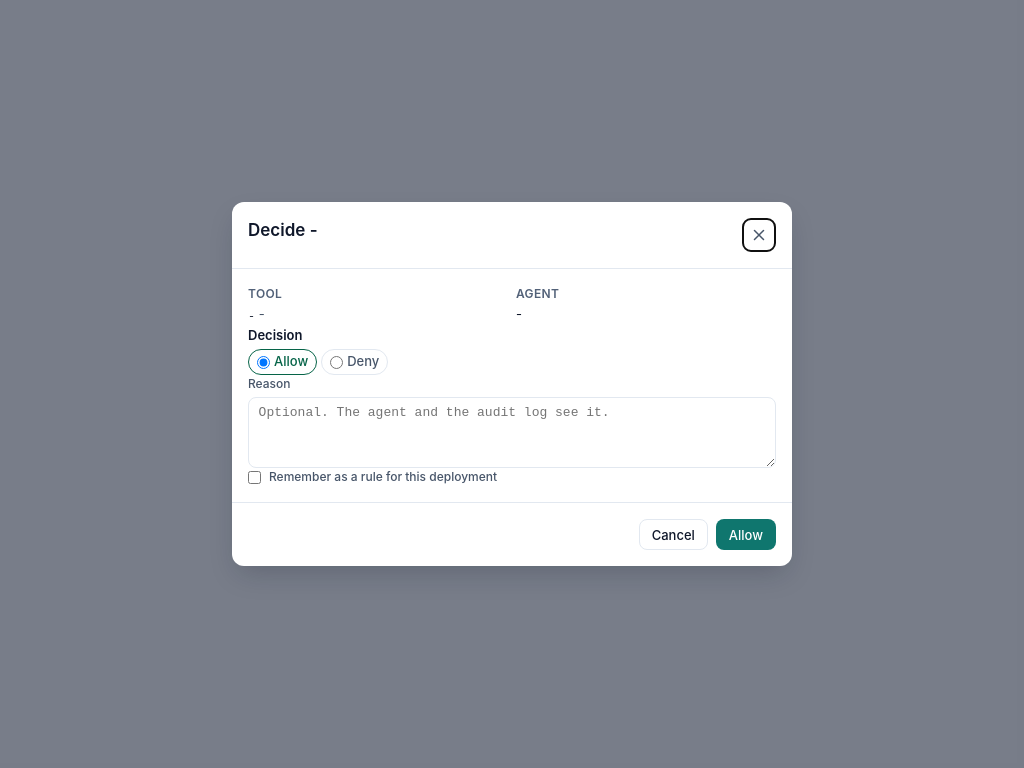
Scenario: decide dialog › needs a rule pattern when remembering
This screenshot has width=1024, height=768.
Click the checkbox with test id "decide-remember" at (254, 477), box x1=248 y1=471 x2=261 y2=484
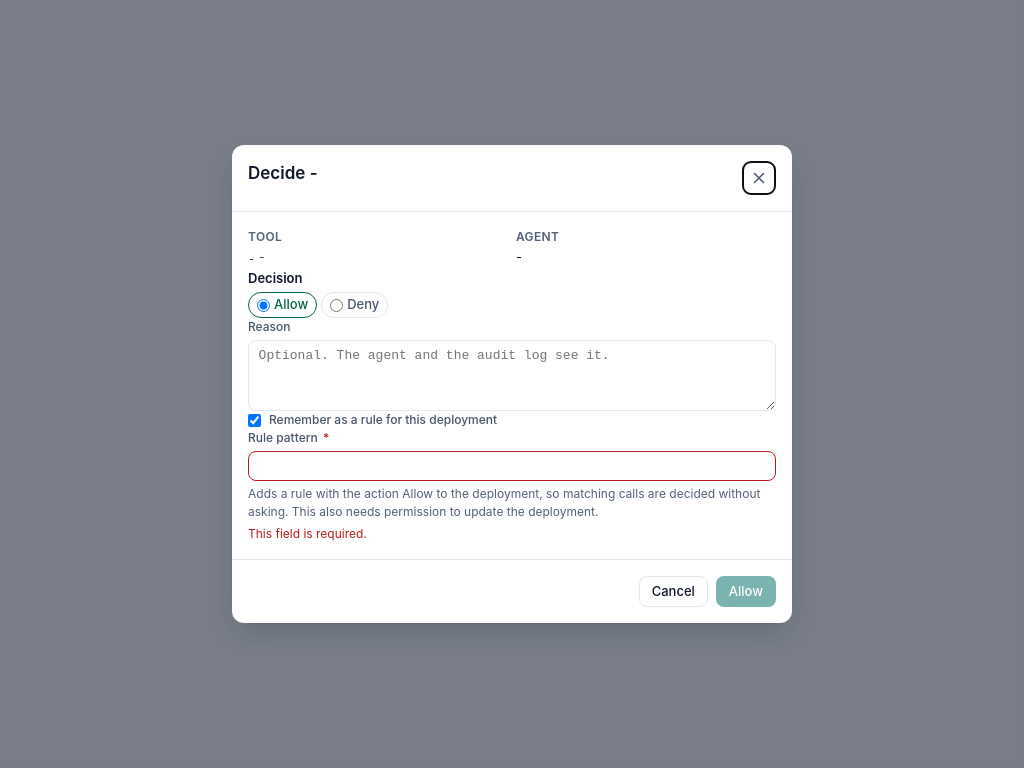
expect the button with test id "decide-submit" is disabled: met, box x1=716 y1=576 x2=776 y2=607
expect the text "This field is required." is shown: met, box x1=248 y1=526 x2=367 y2=541
